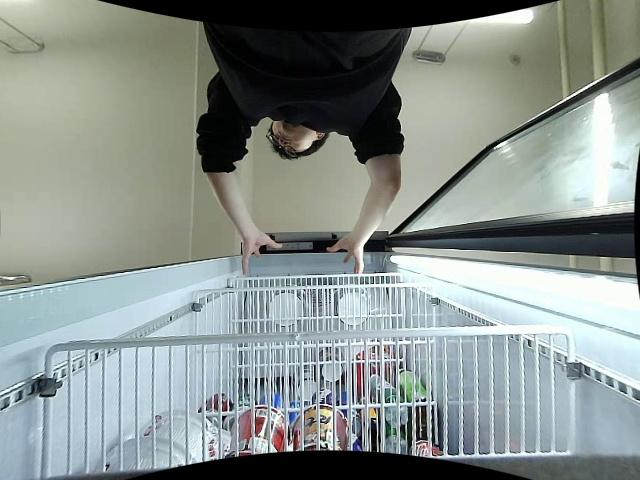00_hand: (241, 234, 283, 275), (325, 235, 365, 276)
